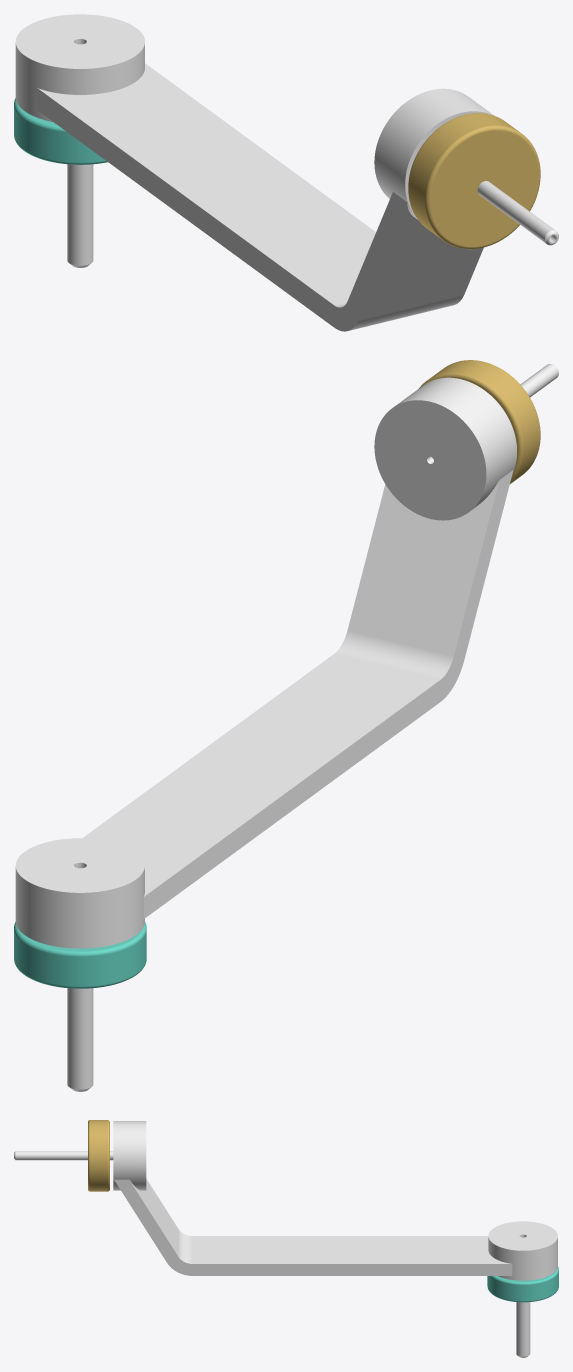
File: surgical-drill-guide.glb
3 renders of one model, top to bottom at view 1: azimuth 30°, elevation 25°; view 2: azimuth 150°, elevation 25°; view 3: azimuth 270°, elevation 25°, orthographic. The views are drawn at different scales.
Bounding box in the file's own units: 0.0324 × 0.1164 × 0.2472.
